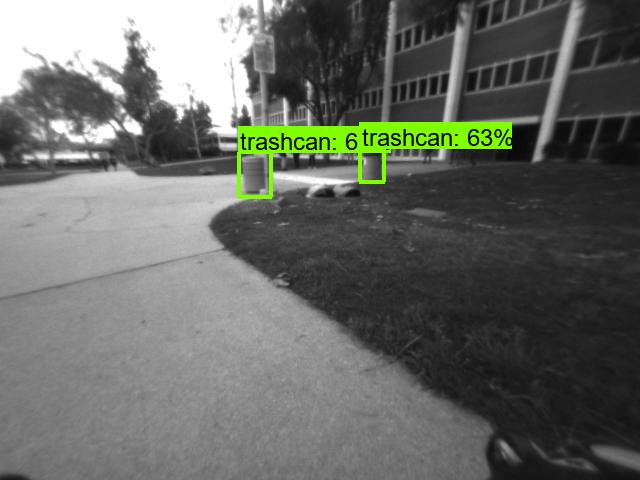trashcan: (243, 153, 271, 191), (361, 151, 383, 183)
